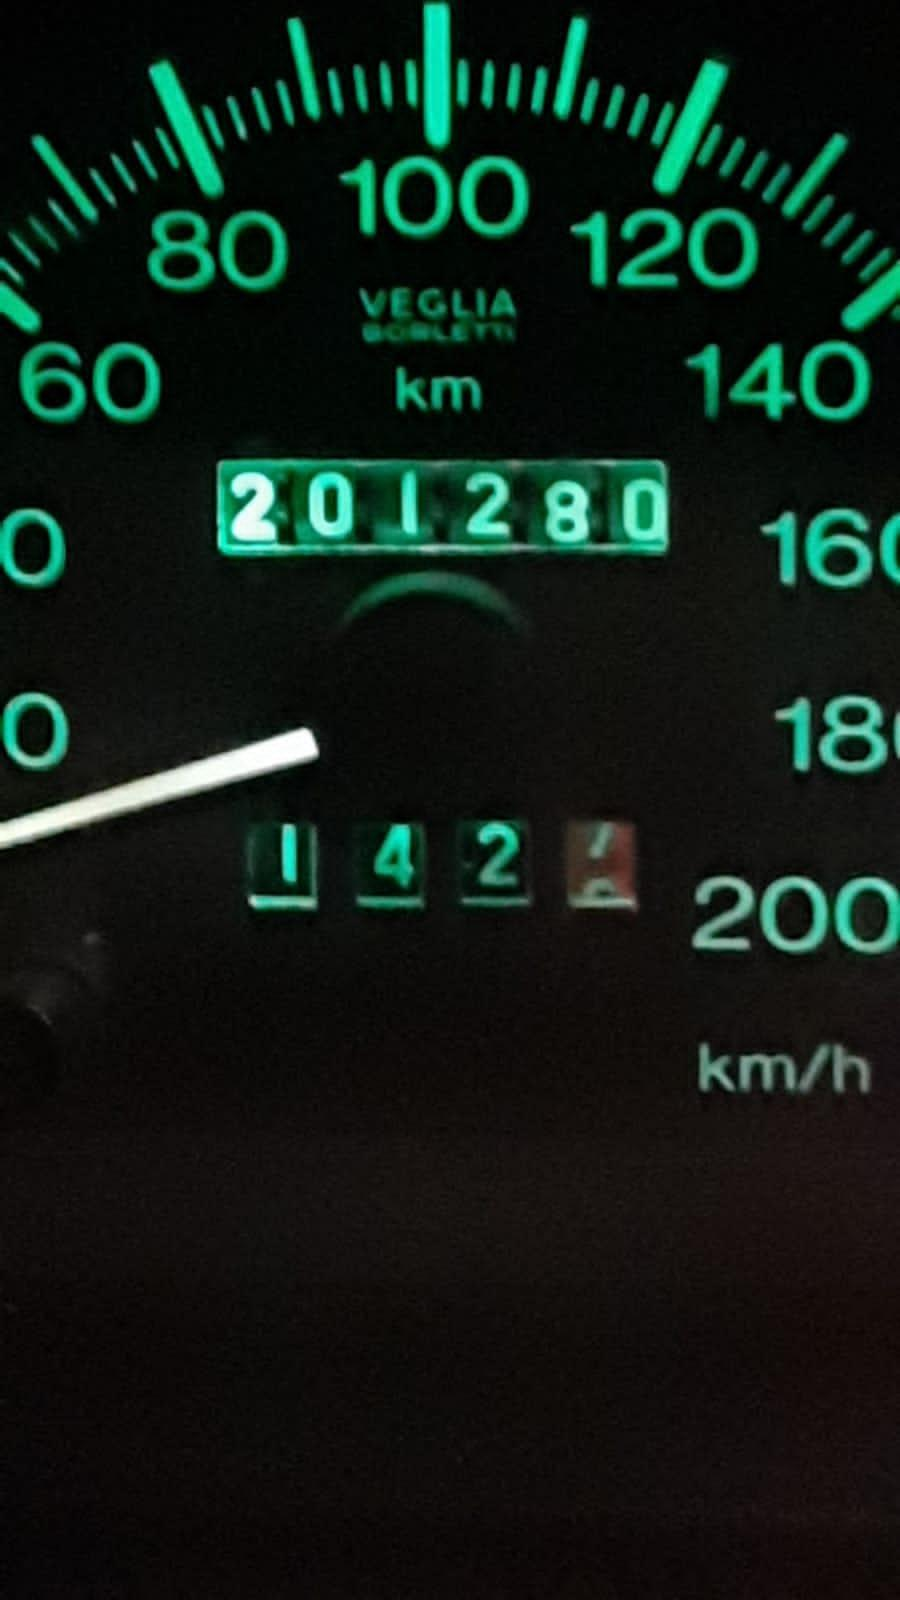0: (305, 469, 356, 540), (620, 476, 669, 542)
1: (396, 466, 422, 538)
2: (462, 468, 516, 538), (227, 469, 279, 543)
8: (542, 477, 591, 545)
odometer: (205, 446, 678, 566)
